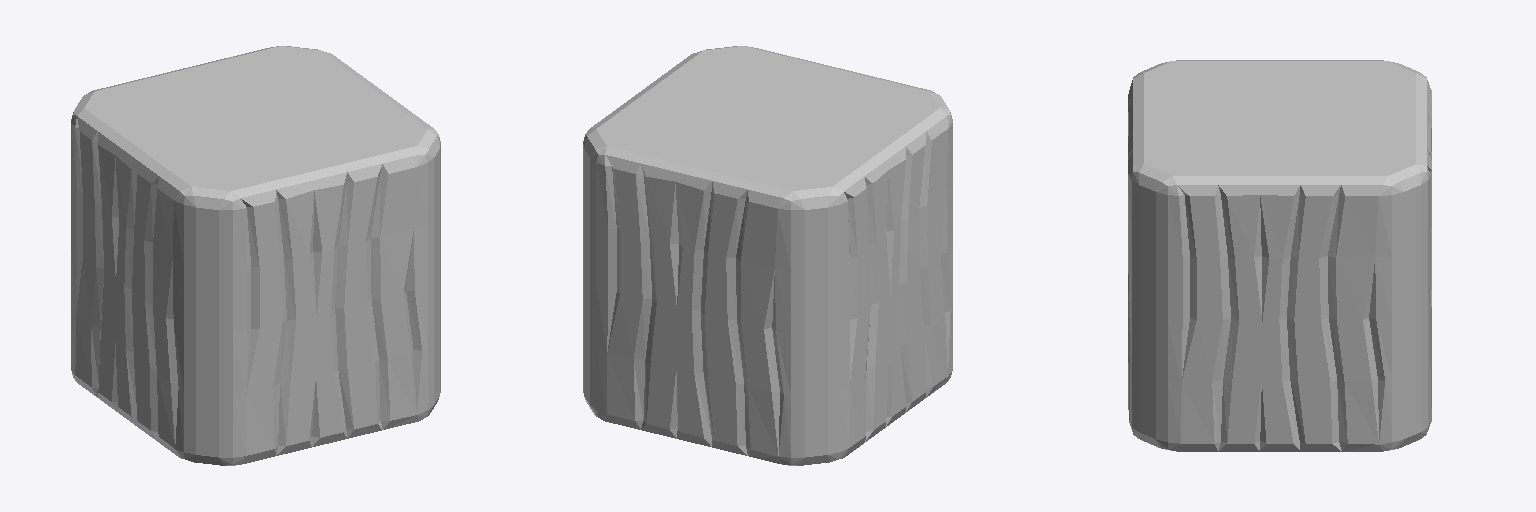
Rendered from wood.obj.
3 views of the same model, side by side, from view 1: azimuth 30°, elevation 25°; view 2: azimuth 150°, elevation 25°; view 3: azimuth 270°, elevation 25° (orthographic).
Visible parts, largest first — view 1: wood; view 2: wood; view 3: wood.
Part boxes in pixels (x1,y1,x2,y2): wood: (71, 46, 440, 465); wood: (583, 46, 952, 465); wood: (1128, 60, 1431, 451).
Size of the model in its own units: 2 by 2 by 2.